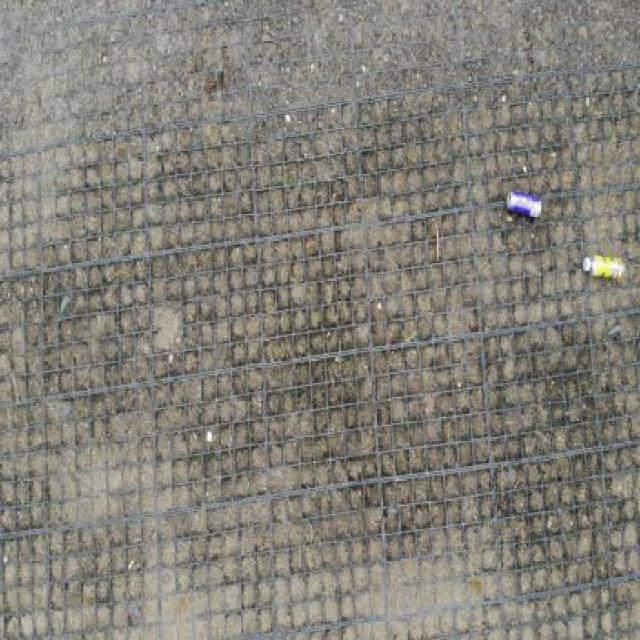Garbage: (582, 254, 624, 280), (506, 193, 542, 217), (206, 431, 212, 440)
